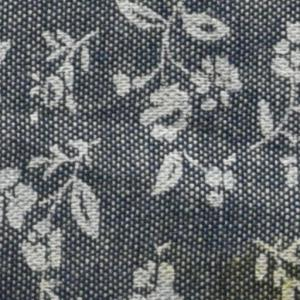Oil Stain: (207, 244, 300, 300)
